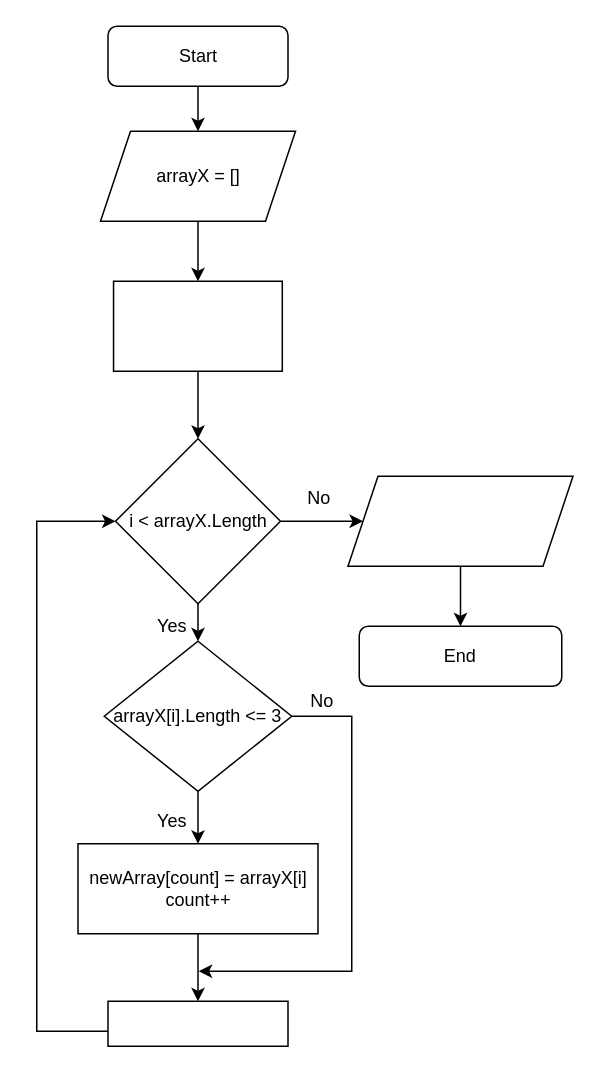
Some shapes in this 600 by 1073 pixel diagram are drawn without their labels. Here are the shapes that lost their labels. From the top down, the centre of each, then its label:
the point at 197,325: count = 0 i = 0
the point at 459,520: newArray
the point at 197,1023: i++
